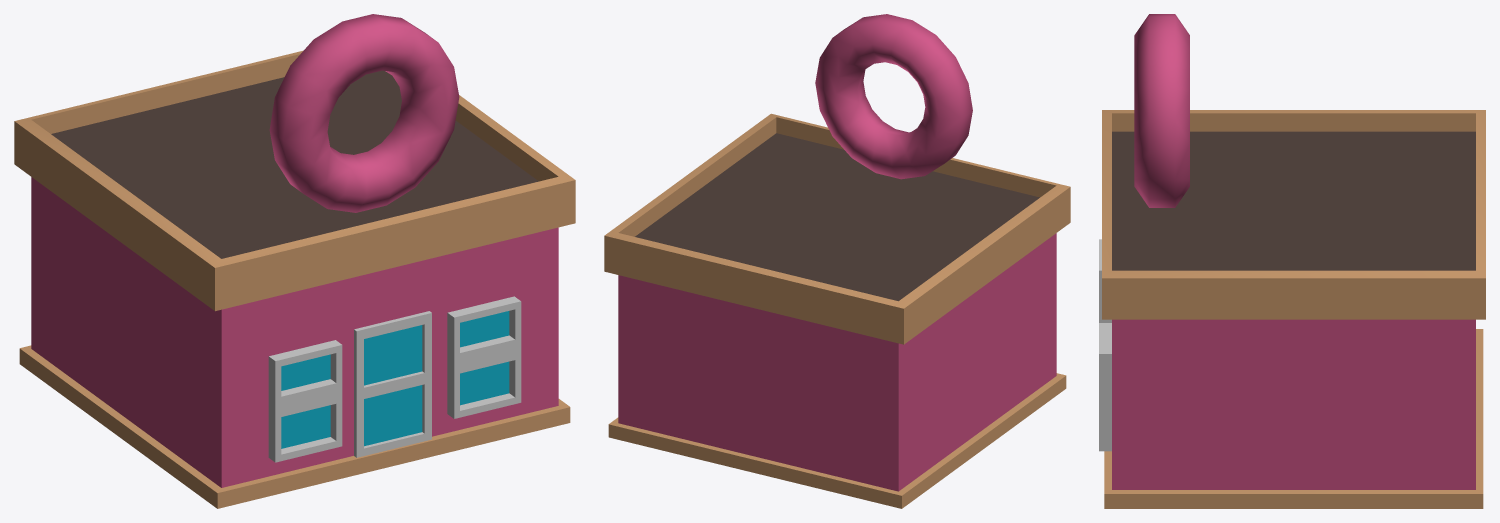
3 views of the same model, side by side, from view 1: azimuth 30°, elevation 25°; view 2: azimuth 150°, elevation 25°; view 3: azimuth 270°, elevation 25° (orthographic). The views are drawn at different scales.
Parts seen in each view (by area): view 1: Cube.060; view 2: Cube.060; view 3: Cube.060.
Boxes of the visible parts, x1=… form: Cube.060: x1=14, y1=14, x2=575, y2=508; Cube.060: x1=604, y1=14, x2=1070, y2=508; Cube.060: x1=1099, y1=14, x2=1485, y2=508.
Size of the model in its own units: 986 by 958 by 1101.
